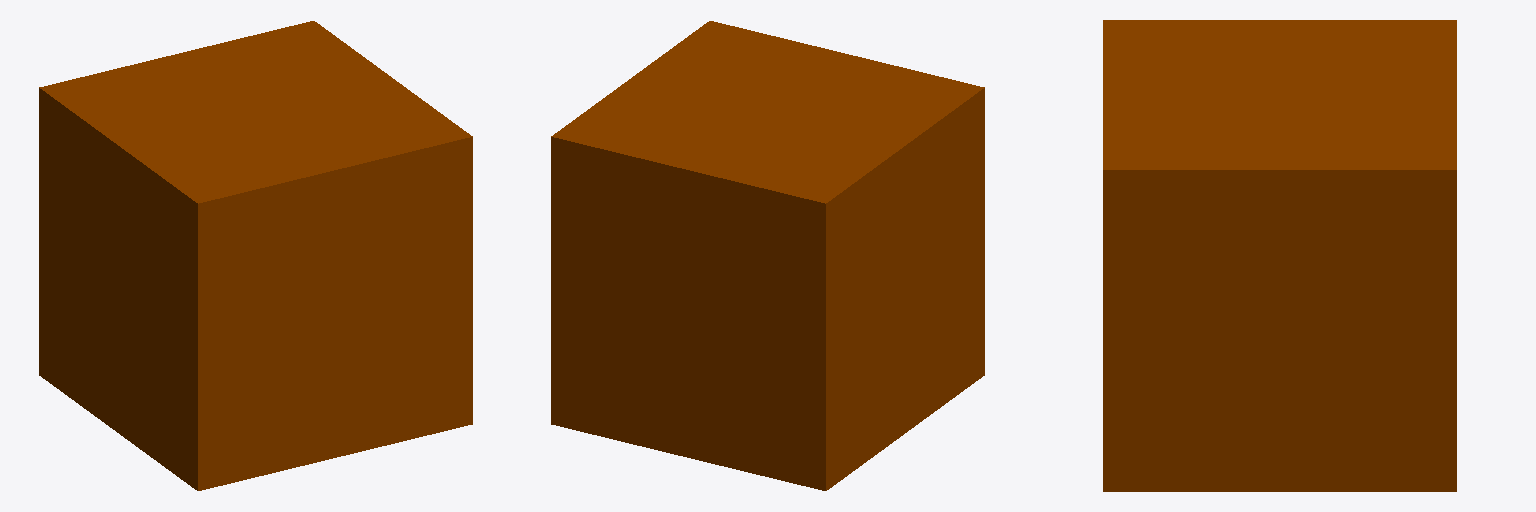
robot.urdf — cube:
<?xml version="1.0"?>
<robot name="cube">

  <link name="cube">
    <visual>
        <origin rpy="0 0 0" xyz="0 0 0"/>
      <geometry>
        <box size="0.1 0.1 0.1"/>
      </geometry>
      <material name="solid_color">
        <color rgba="0.6 0.3 0 1"/>
      </material>
    </visual>

    <collision>
      <geometry>
        <box size="0.1 0.1 0.1"/>
      </geometry>
    </collision>

    <inertial>
      <mass value="0.2"/>
      <inertia ixx="0.001" iyy="0.001" izz="0.001"/>  <!-- I = m * l^2 / 6 -->
    </inertial>
  </link>

</robot>

--- Facts derived from the render (not from the file) ---
3 views of the same robot in one strip: view 1: azimuth 30°, elevation 25°; view 2: azimuth 150°, elevation 25°; view 3: azimuth 270°, elevation 25° (orthographic).
Robot: cube — 1 links, 0 joints (none); root link cube; default pose: all joints at 0.
Visible links, largest first — view 1: cube; view 2: cube; view 3: cube.
Boxes of the visible links, bbox=[...] form: cube: bbox=[39, 21, 472, 490]; cube: bbox=[551, 21, 984, 490]; cube: bbox=[1103, 20, 1456, 491].
Bounding box of the posed robot: 0.1 × 0.1 × 0.1 m (x, y, z).
Geometry: primitives only (box / cylinder / sphere), no mesh files.